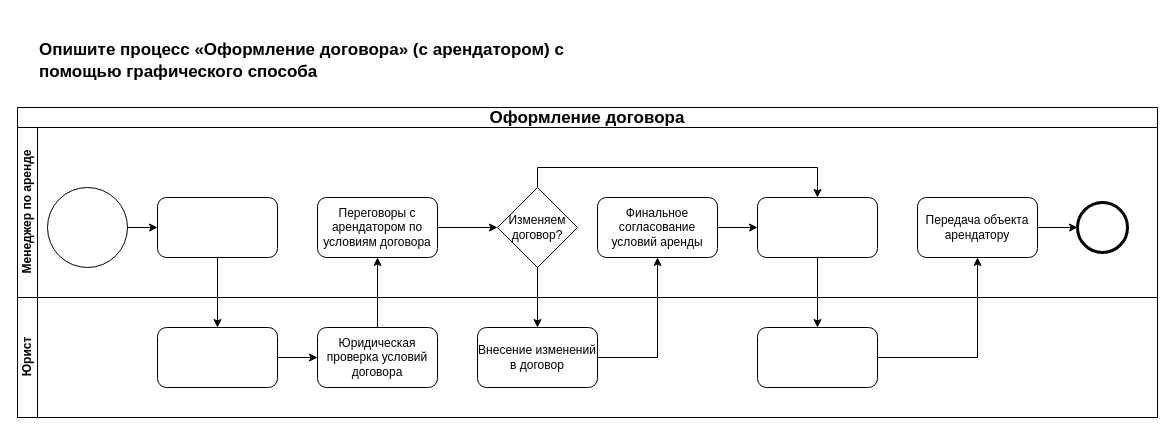
The diagram is 1175 pixels wide and 435 high, and some of its shapes have lost their labels. Here are the shapes that lost their labels. From the top down, the centre of each, then its label:
At pixel 87 227: "Готовность к сделке".
At pixel 217 227: "Определение ключевых условий аренды".
At pixel 817 227: "Подписание договора аренды".
At pixel 217 357: "Подготовка типового договора аренды".
At pixel 817 357: "Регистрация договора".
